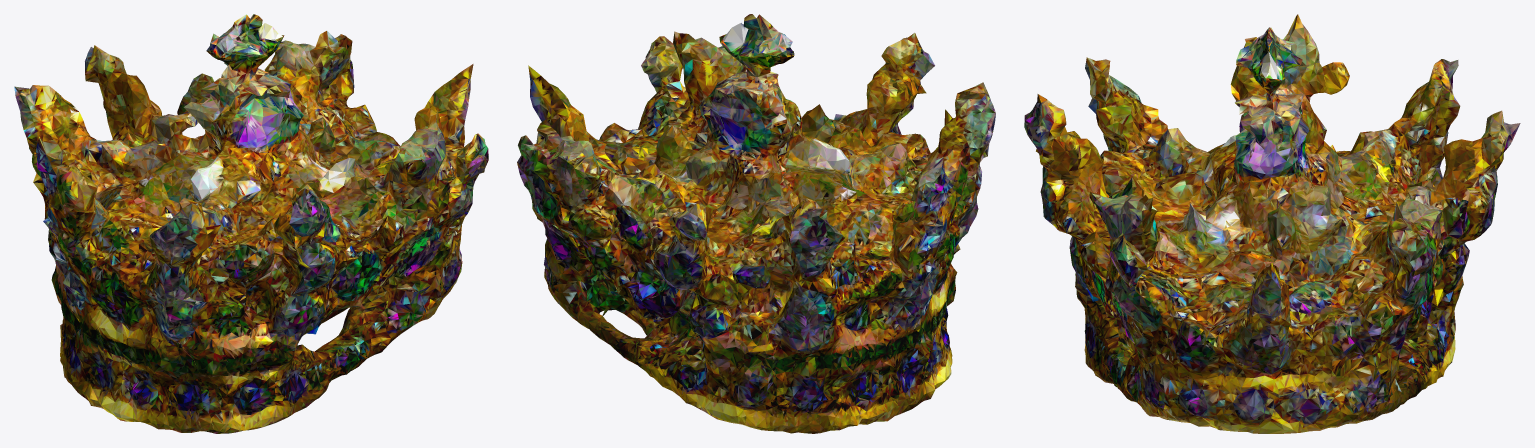
Rendered from crown-scribble.glb.
3 views of the same model, side by side, from view 1: azimuth 30°, elevation 25°; view 2: azimuth 150°, elevation 25°; view 3: azimuth 270°, elevation 25° (orthographic). The views are drawn at different scales.
Visible parts, largest first — view 1: extracted_mesh; view 2: extracted_mesh; view 3: extracted_mesh.
Boxes of the visible parts, <box> form: extracted_mesh: <box>14,14,488,433</box>; extracted_mesh: <box>517,14,995,433</box>; extracted_mesh: <box>1024,14,1520,433</box>.
Bounding box in the file's own units: 1.03 × 0.8155 × 0.9626.
Materials: 1 (1 with a texture image).
